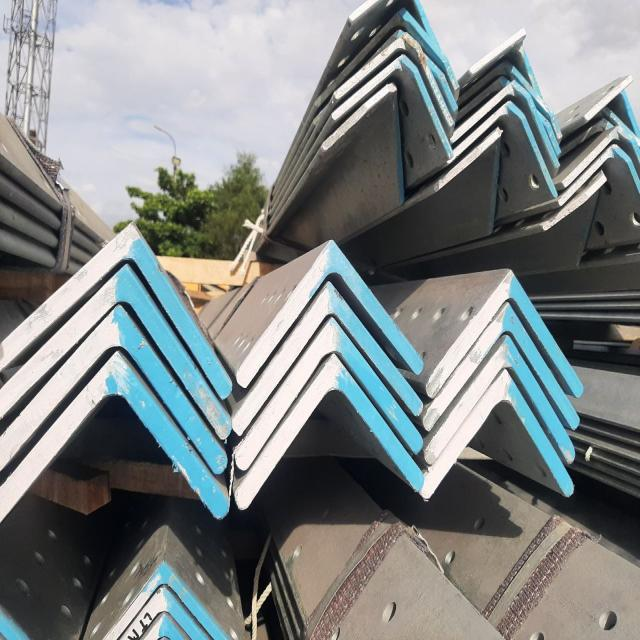metal-angles: (0, 221, 234, 402), (0, 262, 233, 443), (0, 352, 230, 524), (0, 303, 227, 475), (234, 351, 424, 511), (231, 280, 423, 435), (236, 317, 424, 471), (235, 238, 425, 388), (423, 271, 586, 399), (422, 301, 580, 431), (420, 370, 574, 500), (424, 333, 575, 465), (314, 7, 460, 109), (329, 55, 454, 159), (333, 32, 455, 127), (447, 100, 559, 198), (102, 558, 230, 640), (449, 81, 560, 169), (456, 60, 563, 139), (469, 27, 543, 101), (557, 143, 640, 206), (118, 585, 213, 640)
